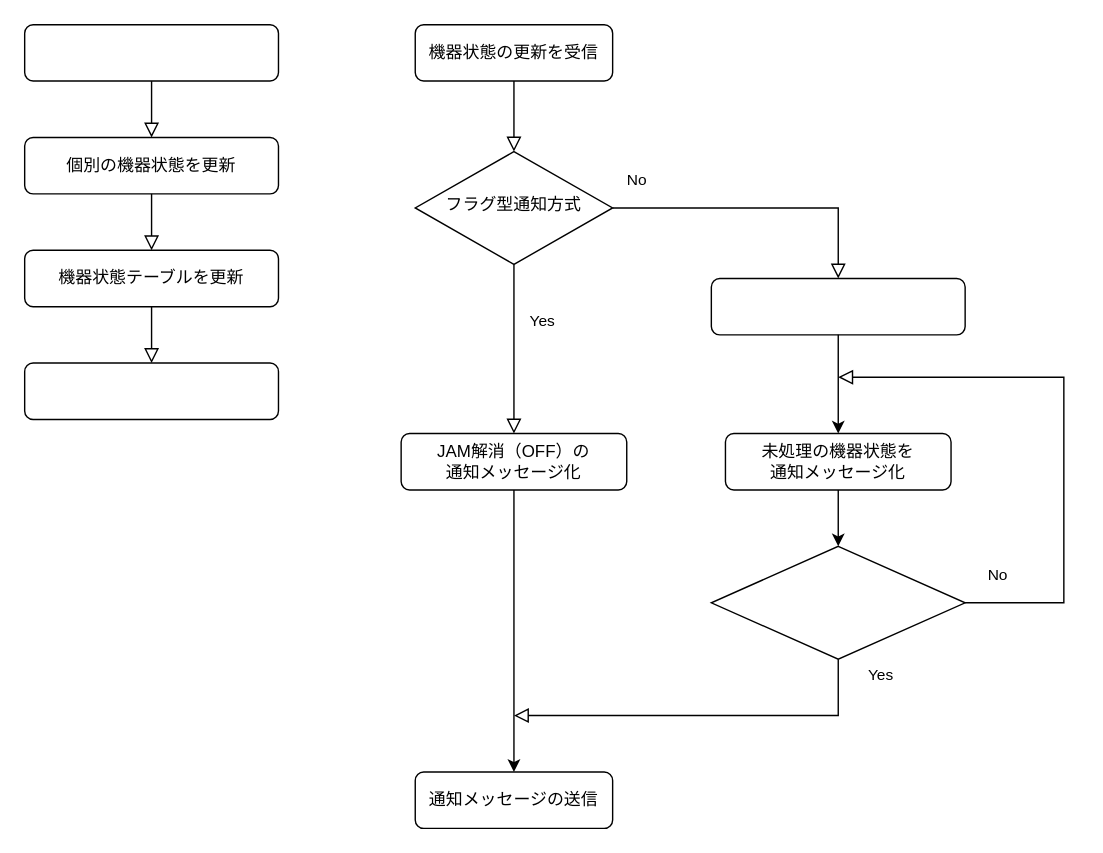
The diagram is 1103 pixels wide and 853 high, and some of its shapes have lost their labels. The centre of each missing label's shape, as x and y in pixels:
N個の機器状態を 処理完了した: pixel 837 602
エンジン制御部から JAM解消通知: pixel 150 52
機器状態の更新を オブザーバに通知: pixel 150 390
機器状態テーブルを取得: pixel 837 306
